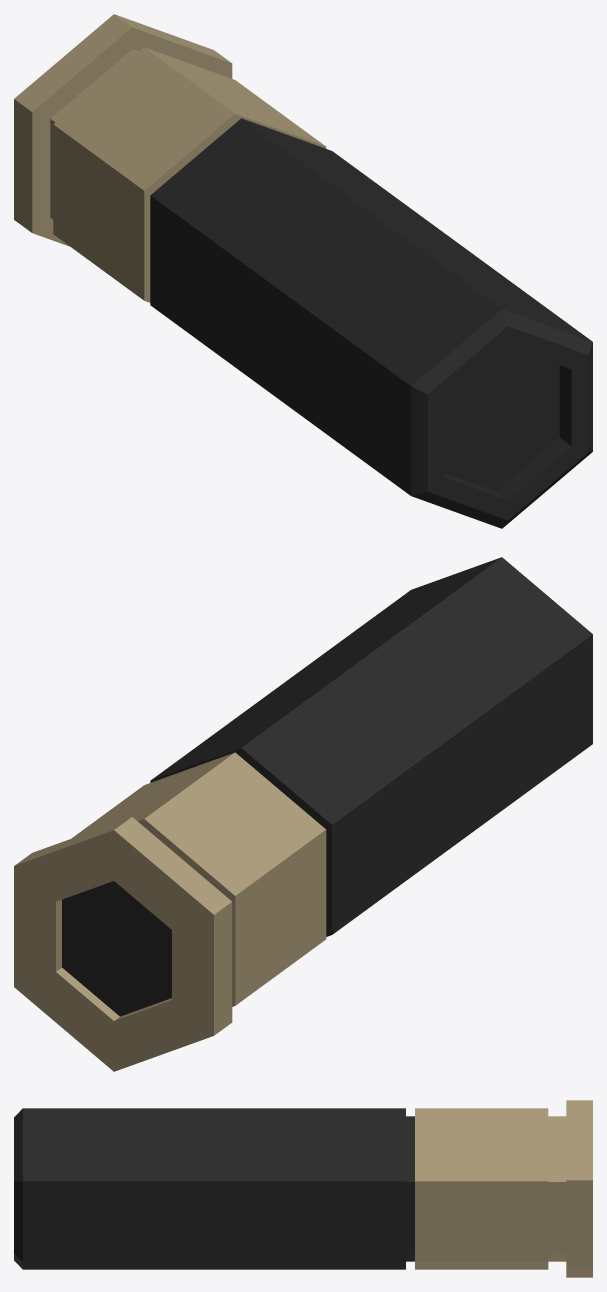
Rendered from Bullet_ShotGun_B.fbx.
The picture shows the model from 3 angles, top to bottom: view 1: azimuth 30°, elevation 25°; view 2: azimuth 150°, elevation 25°; view 3: azimuth 270°, elevation 25°; orthographic projection. The views are drawn at different scales.
Visible parts, largest first — view 1: Bullet_ShotGun_B; view 2: Bullet_ShotGun_B; view 3: Bullet_ShotGun_B.
Part boxes in pixels (left/top/right/bottom): Bullet_ShotGun_B: left=14, top=14, right=592, bottom=528; Bullet_ShotGun_B: left=14, top=557, right=592, bottom=1071; Bullet_ShotGun_B: left=14, top=1100, right=592, bottom=1277.
Bounding box in the file's own units: 0.0238 × 0.0275 × 0.0812.
